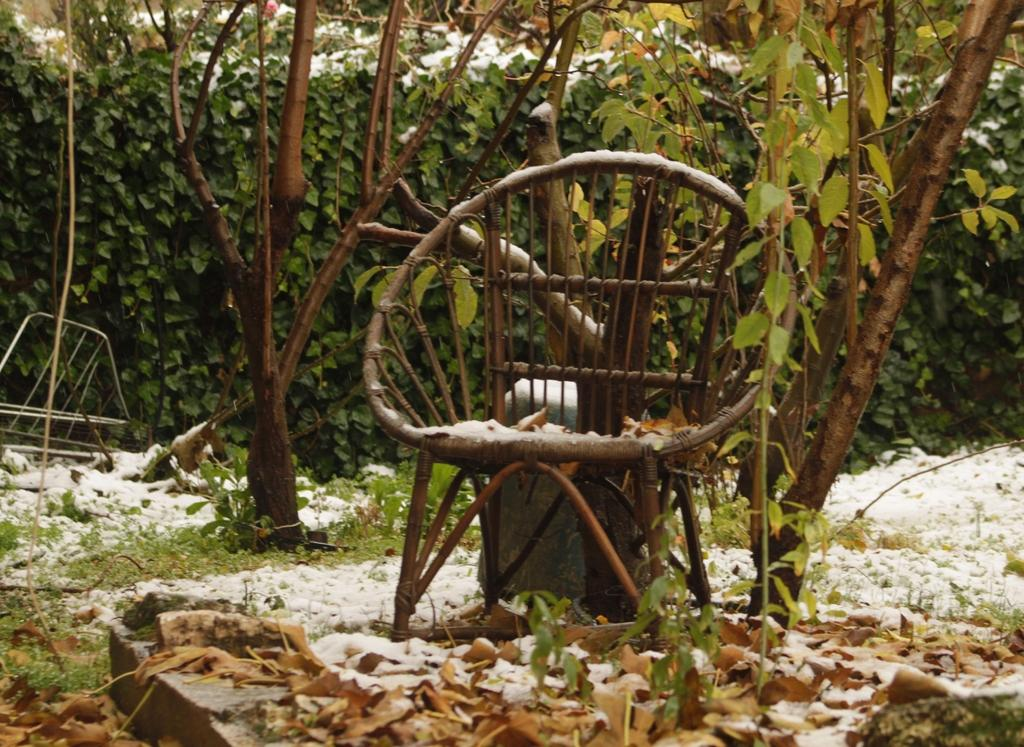Chair: (371, 184, 735, 654)
